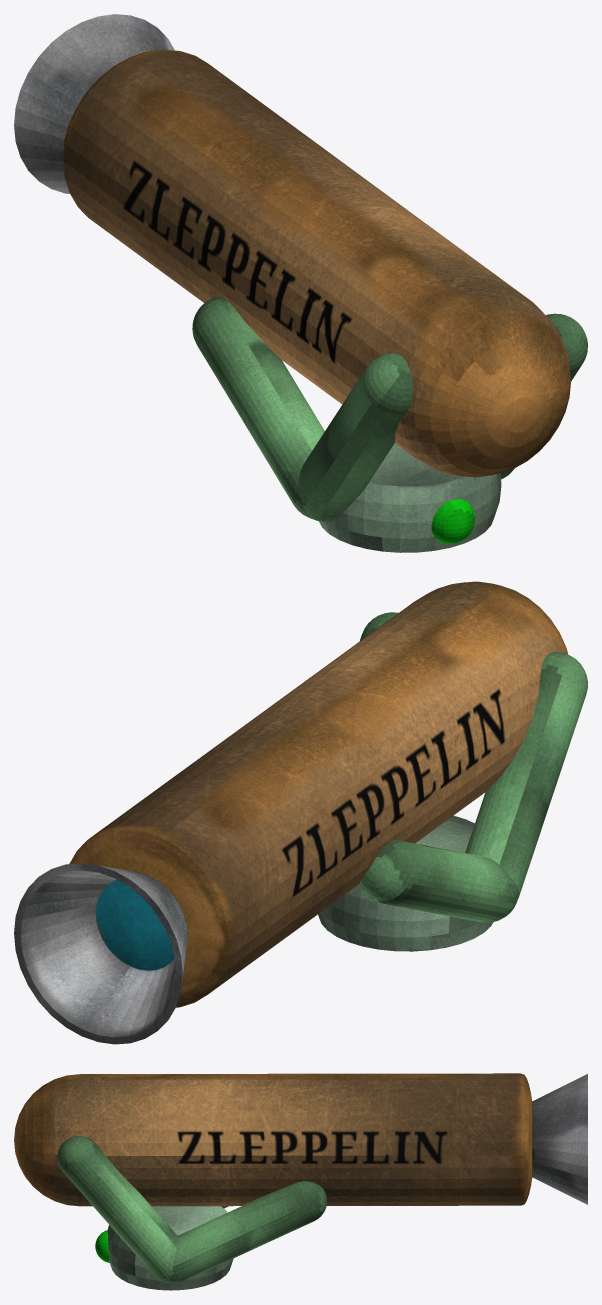
Rendered from ship.fbx.
3 renders of one model, top to bottom at view 1: azimuth 30°, elevation 25°; view 2: azimuth 150°, elevation 25°; view 3: azimuth 270°, elevation 25°, orthographic. The views are drawn at different scales.
Parts seen in each view (by area): view 1: Sphere; view 2: Sphere; view 3: Sphere.
Part boxes in pixels (bbox=[...]): Sphere: bbox=[14, 14, 587, 552]; Sphere: bbox=[14, 581, 587, 1044]; Sphere: bbox=[14, 1073, 587, 1290].
Size of the model in its own units: 266 by 885 by 328.
Materials: 1 (1 with a texture image).
